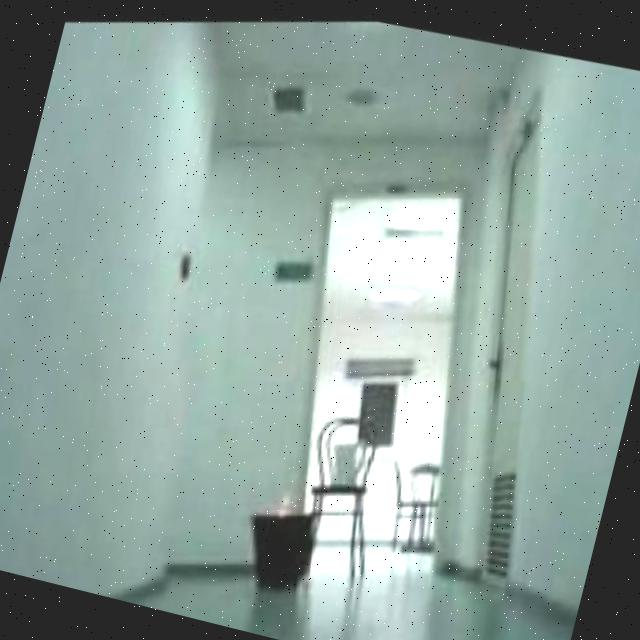fire: (264, 481, 302, 522)
